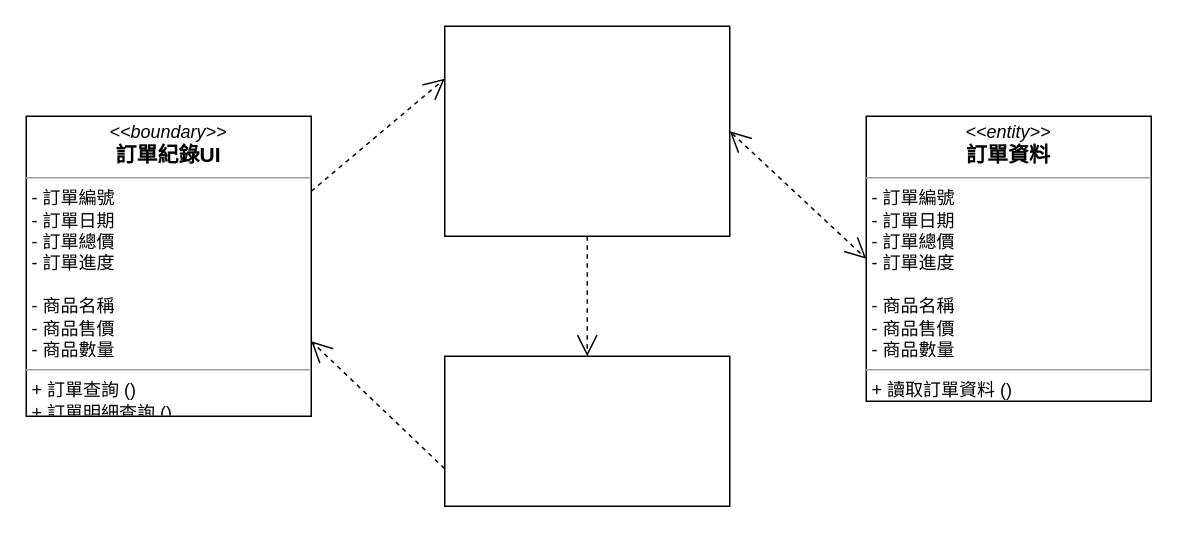
Some shapes in this 1178 by 533 pixel diagram are drawn without their labels. The centre of each missing label's shape, as x and y in pixels:
"<<control>> 查詢、取消與更新 + 訂單查詢 () + 訂單明細查詢 () + 訂單取消 () + 訂單狀態更新 ()" belongs at (x=586, y=130).
"<<control>> 顯示 + 載入訂單紀錄UI ()" belongs at (x=586, y=430).
